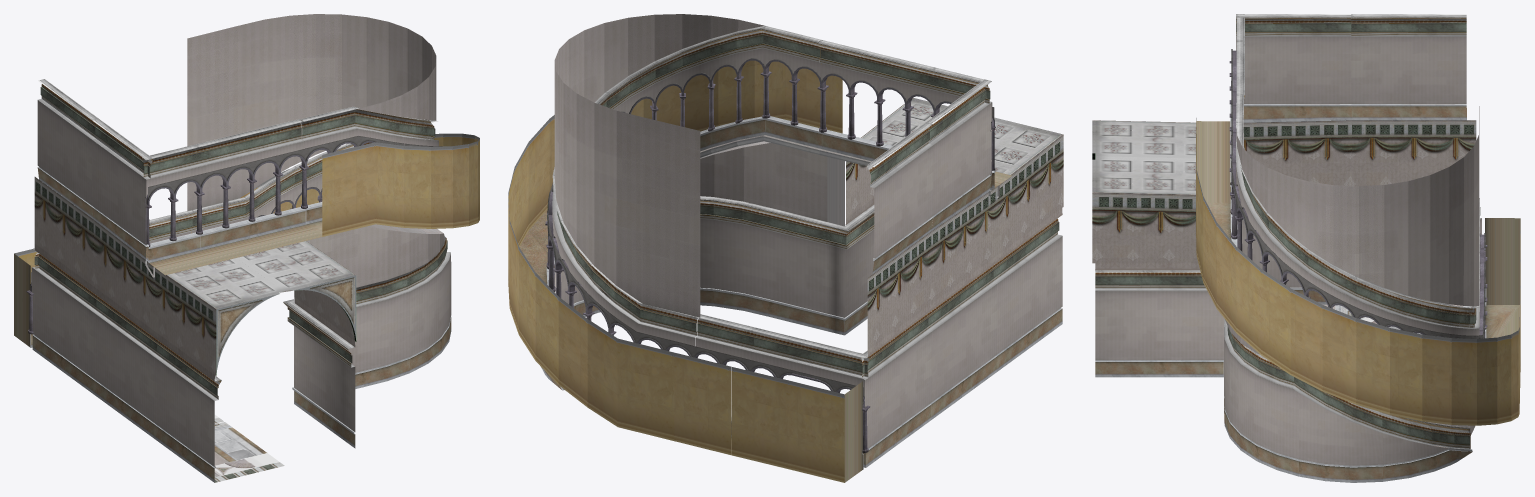
The model's file is stairs.obj.
3 views of the same model, side by side, from view 1: azimuth 30°, elevation 25°; view 2: azimuth 150°, elevation 25°; view 3: azimuth 270°, elevation 25° (orthographic). The views are drawn at different scales.
Visible parts, largest first — view 1: Object010, Object008, Object014, Object012; view 2: Object010, Object014, Object008, Object012; view 3: Object010, Object014, Object008, Object012.
Boxes of the visible parts, left/top/right/bottom form: Object010: left=14, top=14, right=451, bottom=482; Object008: left=34, top=177, right=356, bottom=381; Object014: left=14, top=133, right=479, bottom=283; Object012: left=26, top=136, right=442, bottom=334; Object010: left=519, top=14, right=1062, bottom=482; Object014: left=508, top=40, right=844, bottom=482; Object008: left=845, top=97, right=1063, bottom=356; Object012: left=545, top=58, right=995, bottom=452; Object010: left=1095, top=14, right=1520, bottom=482; Object014: left=1196, top=118, right=1520, bottom=425; Object008: left=1092, top=120, right=1476, bottom=270; Object012: left=1229, top=49, right=1487, bottom=338.
Bounding box in the file's own units: 21.79 × 15.28 × 20.47.
4 materials, 4 textured.
